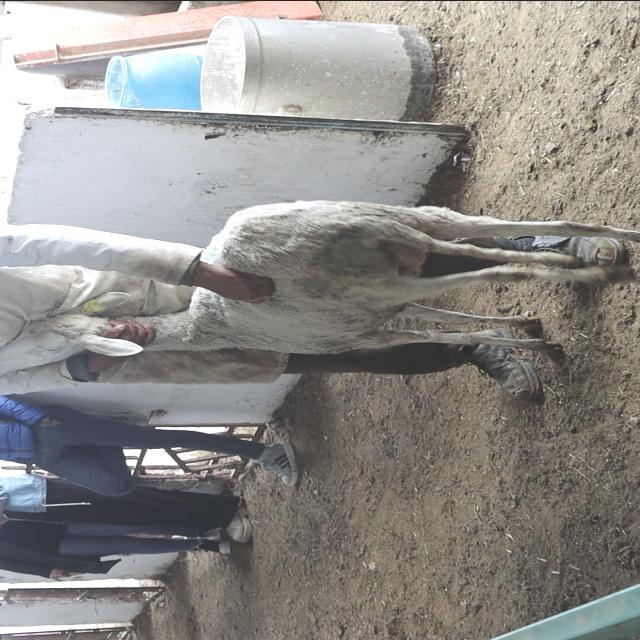Score_1: (148, 200, 639, 360)
